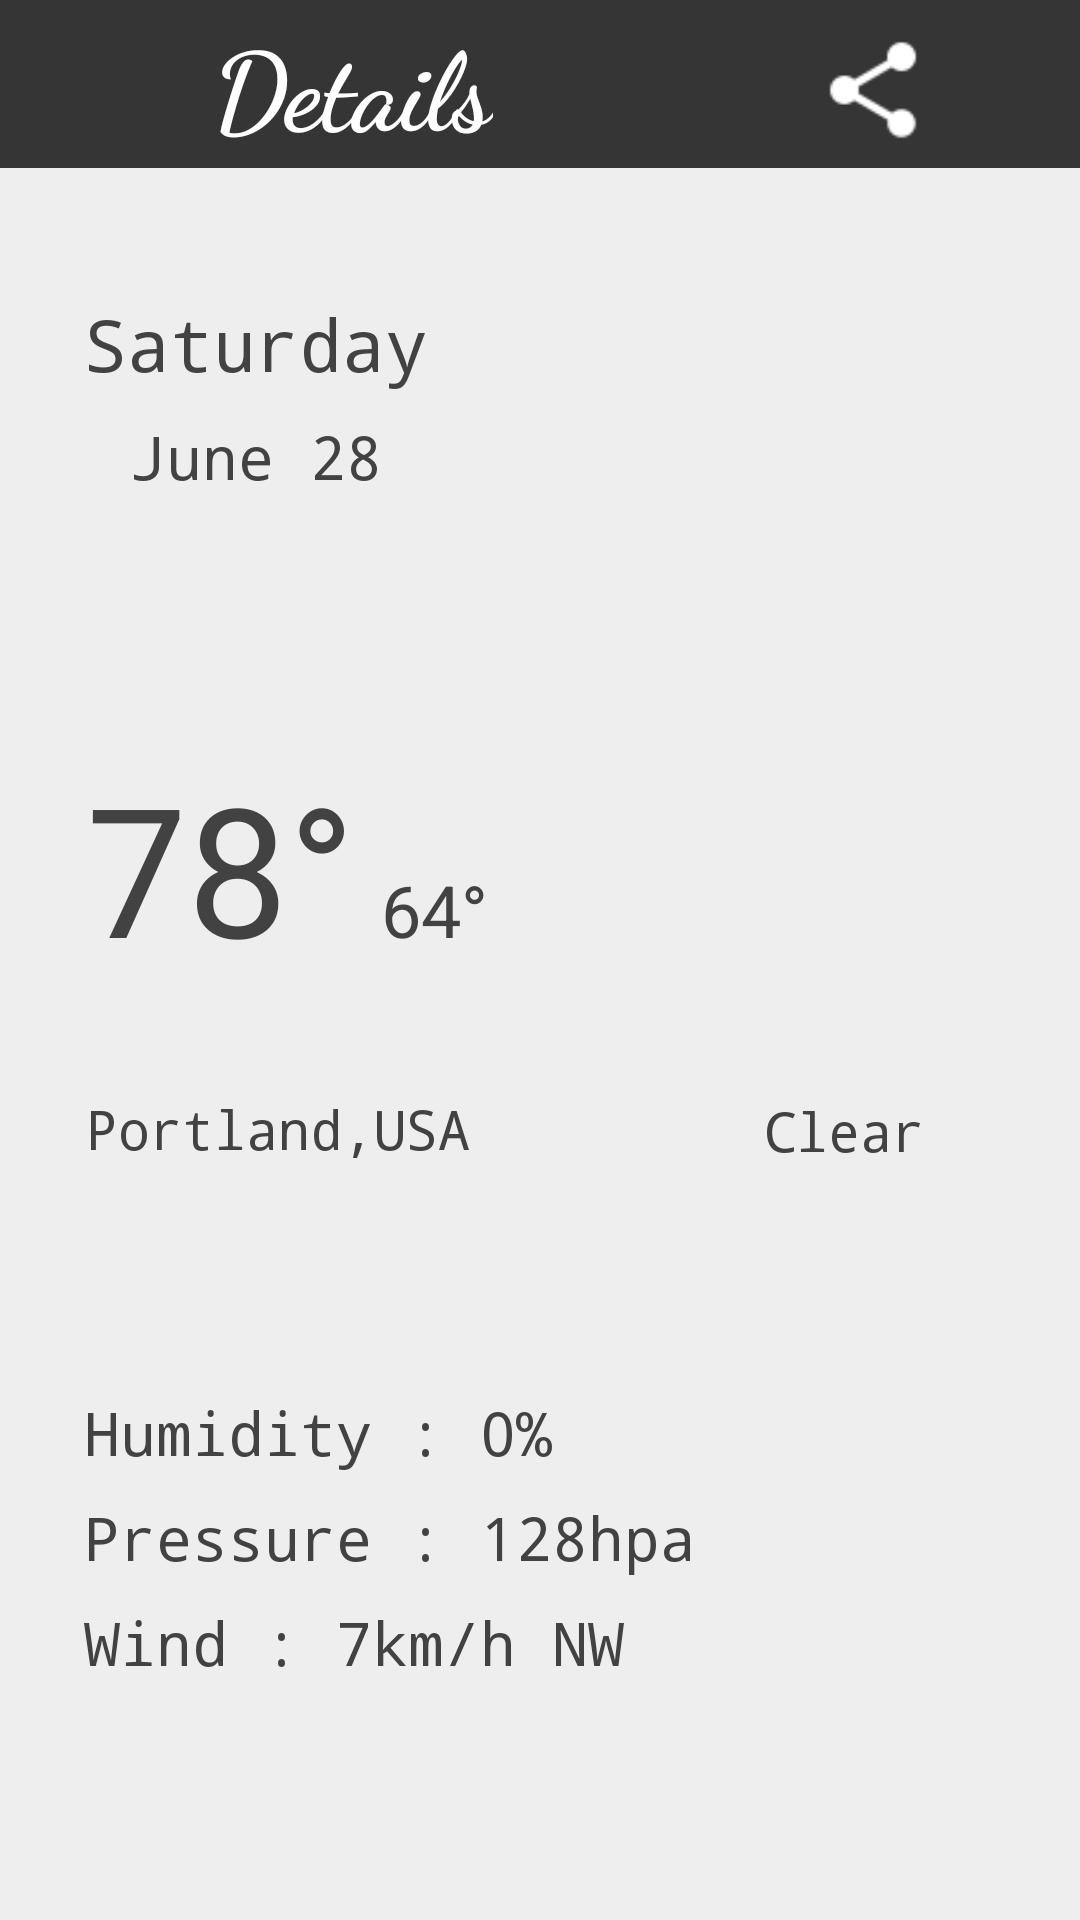

Point at icon controls on the screen. Image size 1080px×1920px, points as point (x, y).
share variant: point (873, 90)
